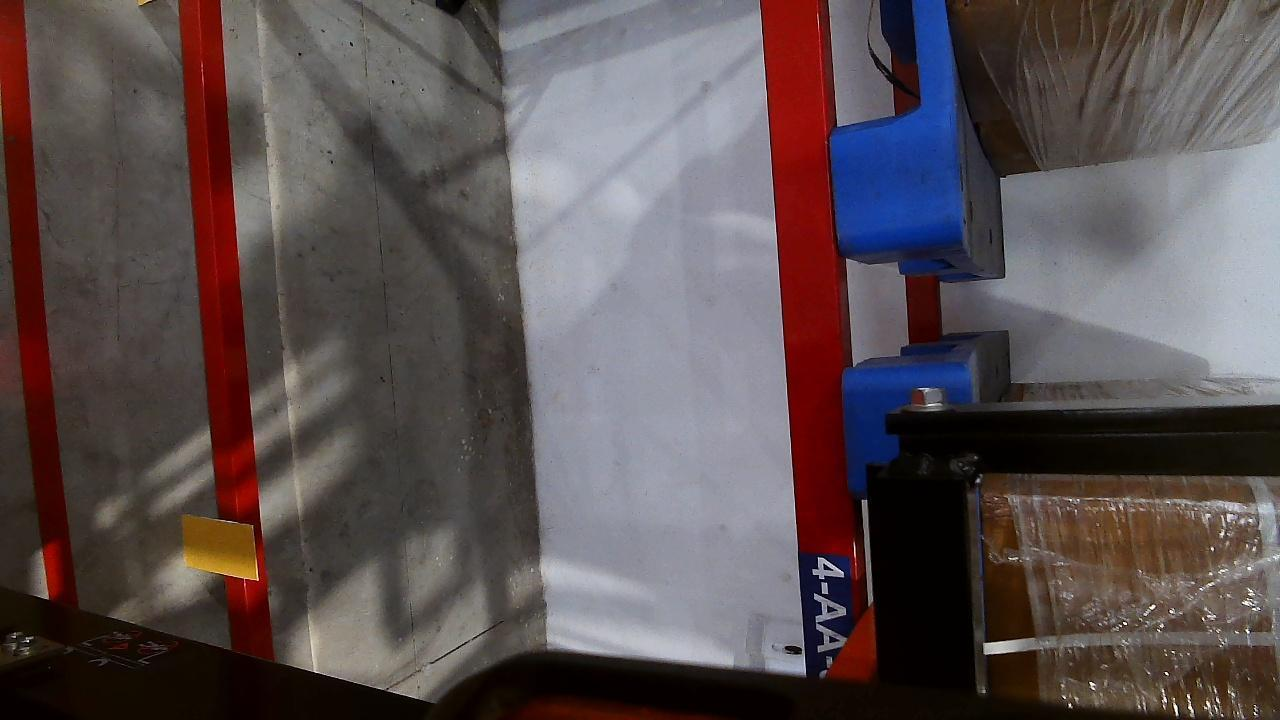red_line: (0, 3, 70, 596)
